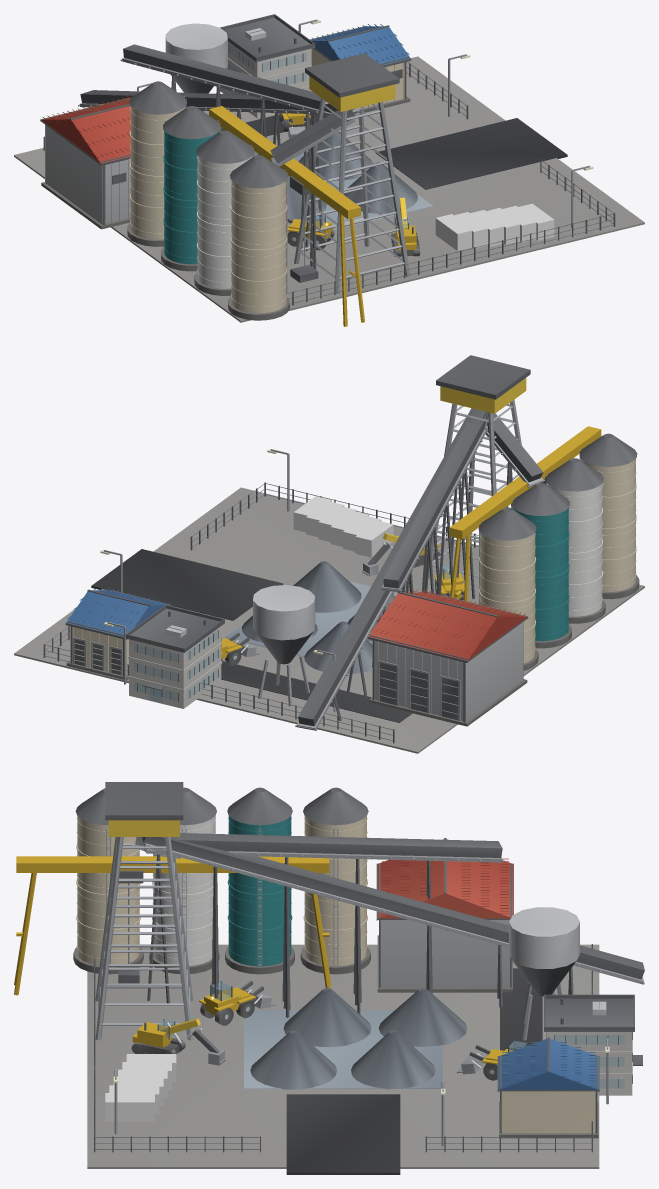
Rendered from Depot_P3.fbx.
3 renders of one model, top to bottom at view 1: azimuth 30°, elevation 25°; view 2: azimuth 150°, elevation 25°; view 3: azimuth 270°, elevation 25°, orthographic. The views are drawn at different scales.
Visible parts, largest first — view 1: Depot.Yard, Depot.Tower, Depot.Shed1, Depot.Silo0, Depot.Silo1, Depot.Silo3, Depot.Silo2, Depot.Office, Depot.ConvA, Depot.Gantry, Depot.Containers, Depot.Shed2 (+10 smaller); view 2: Depot.Yard, Depot.Shed1, Depot.Office, Depot.Tower, Depot.Silo3, Depot.ConvMain, Depot.Silo1, Depot.Silo0, Depot.Silo2, Depot.ConvA, Depot.Shed2, Depot.Hopper (+9 smaller); view 3: Depot.Yard, Depot.Shed1, Depot.ConvMain, Depot.Tower, Depot.Shed2, Depot.ConvA, Depot.Silo2, Depot.Silo3, Depot.Silo0, Depot.Office, Depot.Silo1, Depot.Gantry (+11 smaller).
Part boxes in pixels (x1,y1,x2,y2): Depot.Yard: [14, 56, 644, 322]; Depot.Tower: [294, 53, 410, 293]; Depot.Shed1: [40, 95, 133, 229]; Depot.Silo0: [228, 155, 289, 320]; Depot.Silo1: [194, 130, 254, 295]; Depot.Silo3: [127, 81, 186, 246]; Depot.Silo2: [161, 106, 220, 271]; Depot.Office: [220, 14, 315, 118]; Depot.ConvA: [120, 44, 360, 251]; Depot.Gantry: [209, 106, 364, 326]; Depot.Containers: [435, 203, 554, 250]; Depot.Shed2: [310, 24, 411, 112]; Depot.Yard: [14, 487, 644, 753]; Depot.Shed1: [367, 589, 528, 726]; Depot.Office: [125, 605, 224, 708]; Depot.Tower: [428, 355, 530, 578]; Depot.Silo3: [478, 507, 538, 670]; Depot.ConvMain: [295, 408, 493, 730]; Depot.Silo1: [546, 458, 605, 623]; Depot.Silo0: [579, 433, 639, 599]; Depot.Silo2: [512, 483, 571, 648]; Depot.ConvA: [380, 413, 488, 598]; Depot.Shed2: [65, 588, 172, 680]; Depot.Hopper: [253, 585, 315, 706]; Depot.Yard: [87, 944, 599, 1174]; Depot.Shed1: [376, 838, 513, 992]; Depot.ConvMain: [142, 837, 644, 1021]; Depot.Tower: [95, 782, 193, 1040]; Depot.Shed2: [497, 1037, 599, 1138]; Depot.ConvA: [144, 833, 503, 1010]; Depot.Silo2: [225, 787, 294, 974]; Depot.Silo3: [300, 787, 370, 974]; Depot.Silo0: [73, 788, 143, 974]; Depot.Office: [544, 994, 642, 1095]; Depot.Silo1: [149, 787, 219, 973]; Depot.Gantry: [14, 856, 331, 995].
Bounding box in the file's own units: 7817 × 3466 × 8873.
